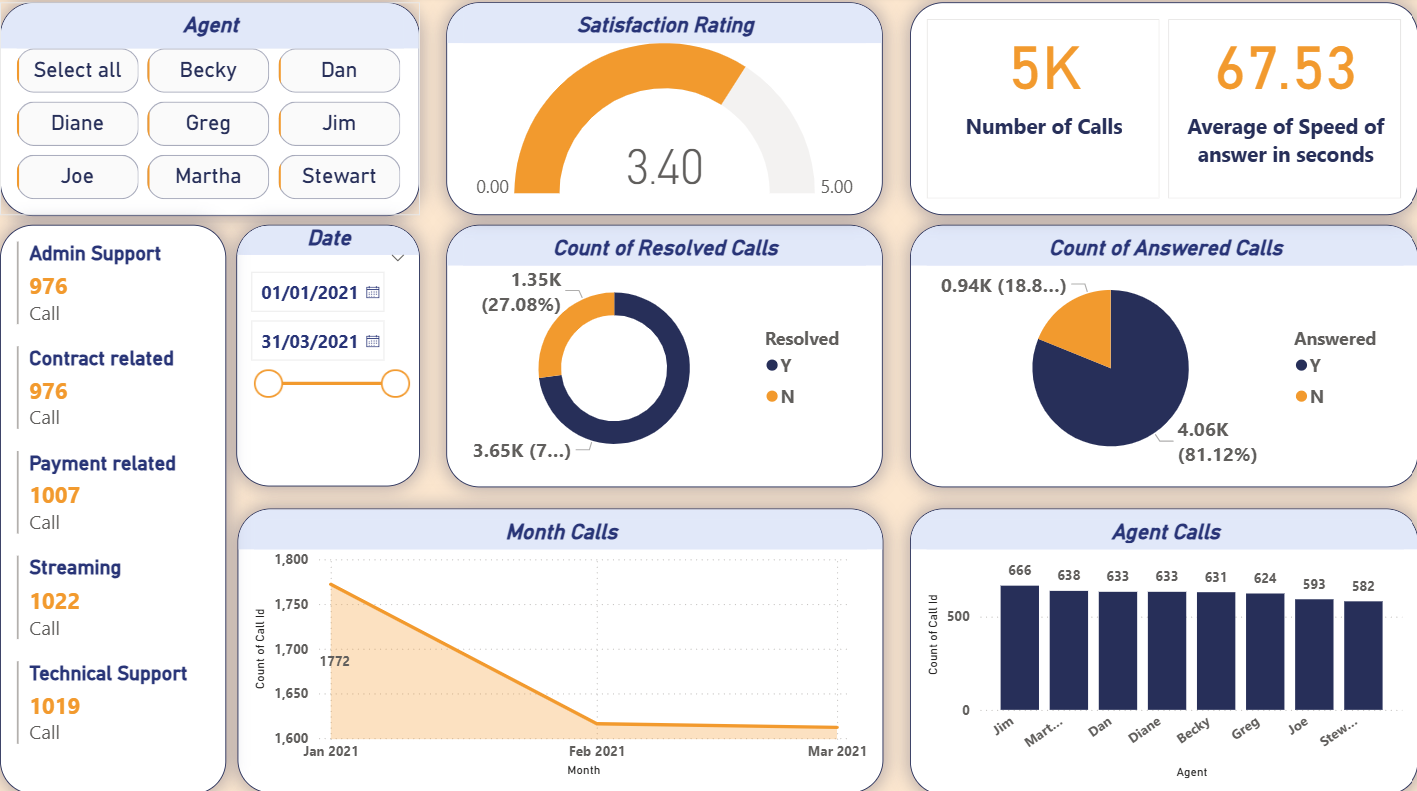

This screenshot's page, from the dashboard's own definition file:
{"tool":"powerbi","page":{"name":"Page 1","canvas":[1280,720],"ordinal":0},"visuals":[{"type":"pieChart","title":"Count of Answered Calls","fields":{"Category":["Sheet1.Answered (Y/N)"],"Y":["CountNonNull(Sheet1.Call Id)"]},"box":[820.6,205.9,459.4,236.6],"z":0},{"type":"donutChart","title":"Count of Resolved Calls","fields":{"Y":["CountNonNull(Sheet1.Call Id)"],"Category":["Sheet1.Resolved"]},"box":[402.6,205.9,393.4,236.6],"z":1000},{"type":"clusteredColumnChart","title":"Agent Calls","fields":{"Y":["CountNonNull(Sheet1.Call Id)"],"Category":["Sheet1.Agent"]},"box":[820.6,462.5,459.4,258.2],"z":2000},{"type":"stackedAreaChart","title":"Month Calls","fields":{"Category":["Sheet1.Date.Variation.Date Hierarchy.Year","Sheet1.Date.Variation.Date Hierarchy.Quarter","Sheet1.Date.Variation.Date Hierarchy.Month","Sheet1.Date.Variation.Date Hierarchy.Day"],"Y":["CountNonNull(Sheet1.Call Id)"]},"box":[213.6,462.5,582.4,256.6],"z":3000},{"type":"cardVisual","fields":{"Data":["CountNonNull(Sheet1.Call Id)","Avg(Sheet1.Speed of answer in seconds)"]},"box":[820.6,6.1,459.4,192.1],"z":4000},{"type":"advancedSlicerVisual","fields":{"Values":["Sheet1.Agent"]},"box":[0,5.7,378.4,192.8],"z":5000},{"type":"gauge","title":"Satisfaction Rating","fields":{"Y":["Avg(Sheet1.Satisfaction rating)"]},"box":[402.6,6.1,393.4,192.1],"z":6000},{"type":"slicer","title":"Date","fields":{"Values":["Sheet1.Date"]},"box":[213.1,205.9,165.6,236.2],"z":7000},{"type":"multiRowCard","title":"Agent Calls","fields":{"Values":["Sheet1.Topic","CountNonNull(Sheet1.Call Id)"]},"box":[0,205.9,204.4,513.2],"z":8000}]}

Visuals, with their boxes in screenshot pixels (x1, y1, x2, y2), scaled from the page's 1280x720 canvas onto the 1417x791 screenshot:
"Count of Answered Calls" pieChart: 908/226/1416/486
"Count of Resolved Calls" donutChart: 446/226/881/486
"Agent Calls" clusteredColumnChart: 908/508/1416/790
"Month Calls" stackedAreaChart: 236/508/881/790
cardVisual - CountNonNull(Sheet1.Call Id) x Avg(Sheet1.Speed of answer in seconds): 908/7/1416/218
advancedSlicerVisual - Sheet1.Agent: 0/6/419/218
"Satisfaction Rating" gauge: 446/7/881/218
"Date" slicer: 236/226/419/486
"Agent Calls" multiRowCard: 0/226/226/790
